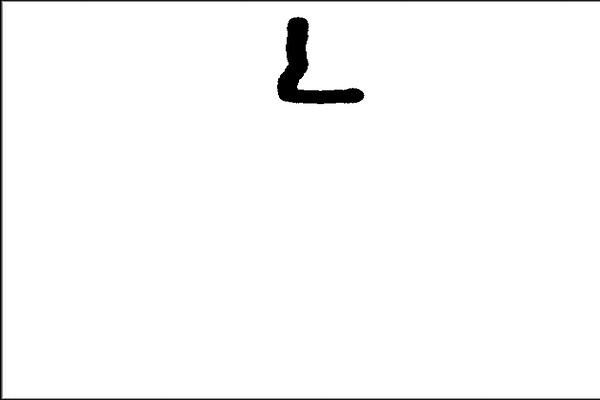L: (270, 12, 371, 112)
